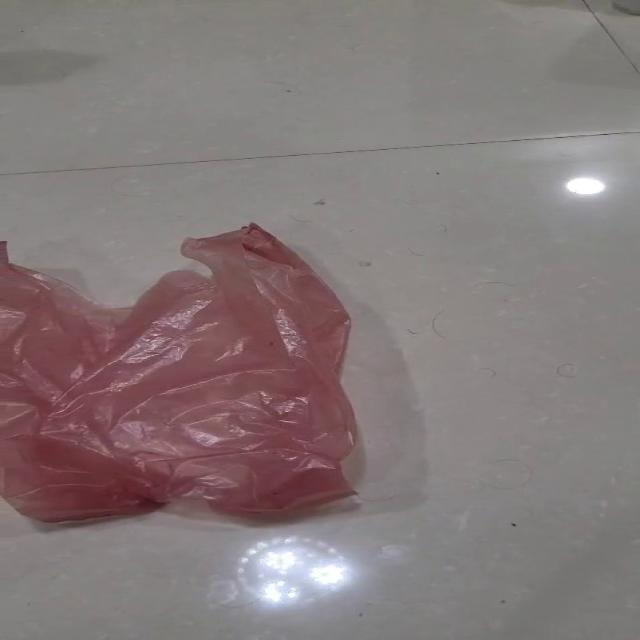plastic: (0, 222, 362, 522)
